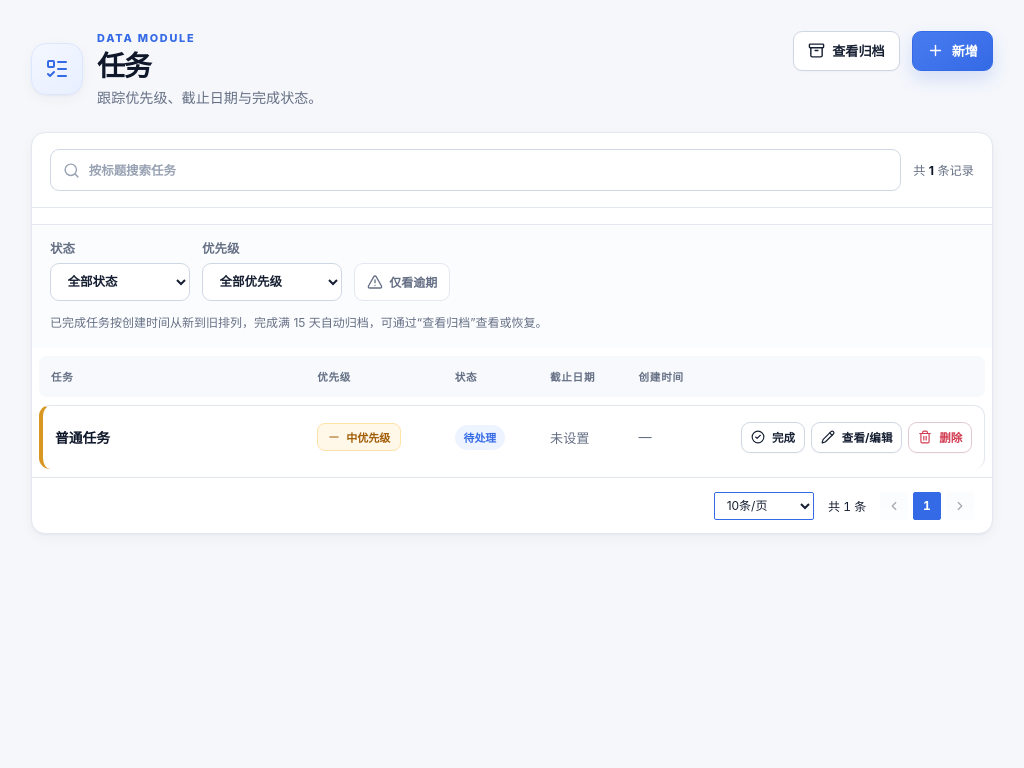
Scenario: review report CRUD regressions › keeps the archive return button available after load errors and empty results without touching browser archives
The image size is (1024, 768).
Expected: the text "普通任务" is shown, [55,430,110,446]
Click the button "查看归档".
click(846, 51)  # box [793,31,900,71]
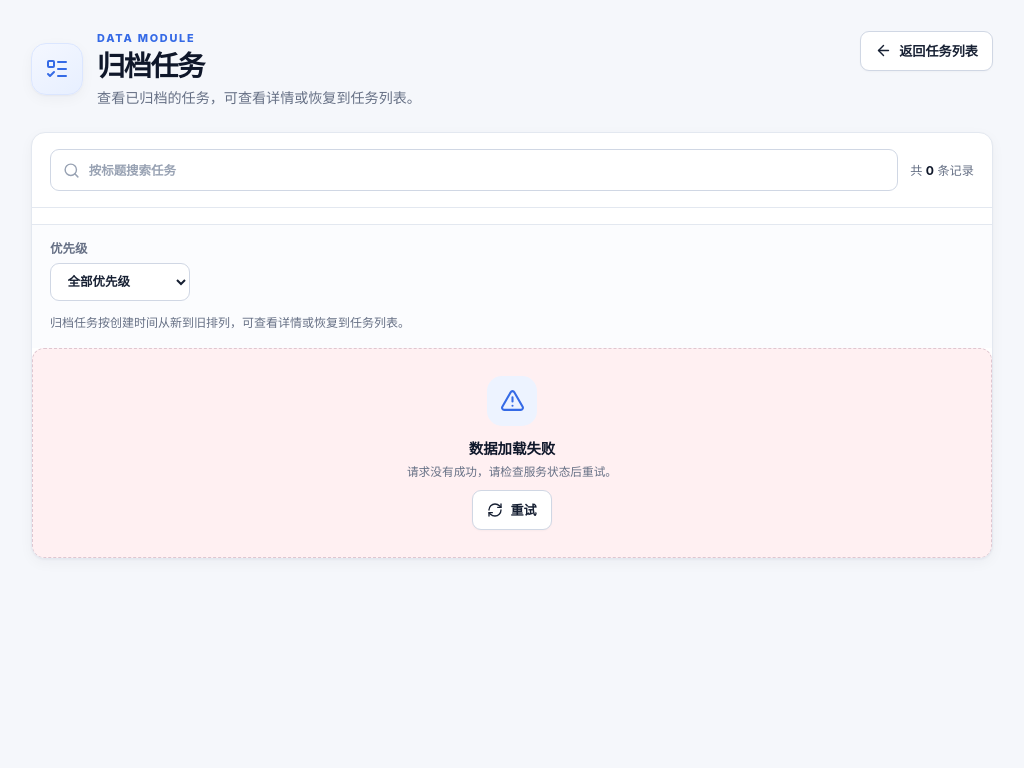
Expected: the button "返回任务列表" is enabled, [860,31,993,71]
Now the text "普通任务" is gone
Now the heading "数据加载失败" is shown, box [469,440,555,457]
Click the button "重试".
click(512, 510)  # box [472,490,552,530]
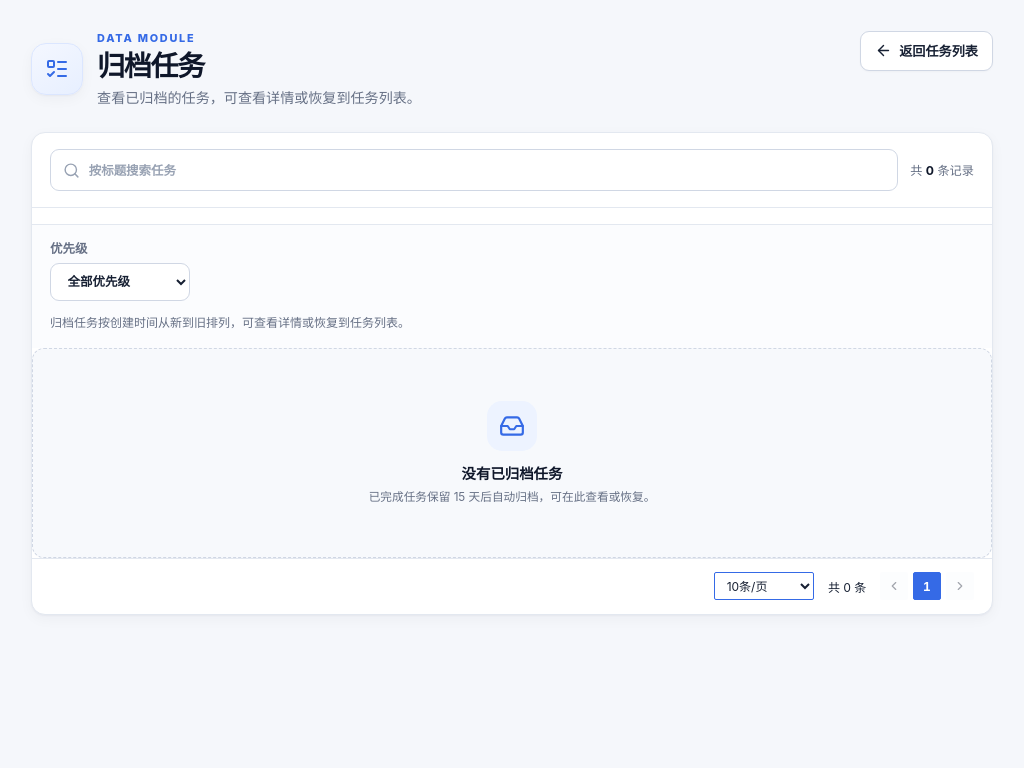
Now the heading "没有已归档任务" is shown, box [462,465,562,482]
Click the button "返回任务列表".
click(926, 51)  # box [860,31,993,71]
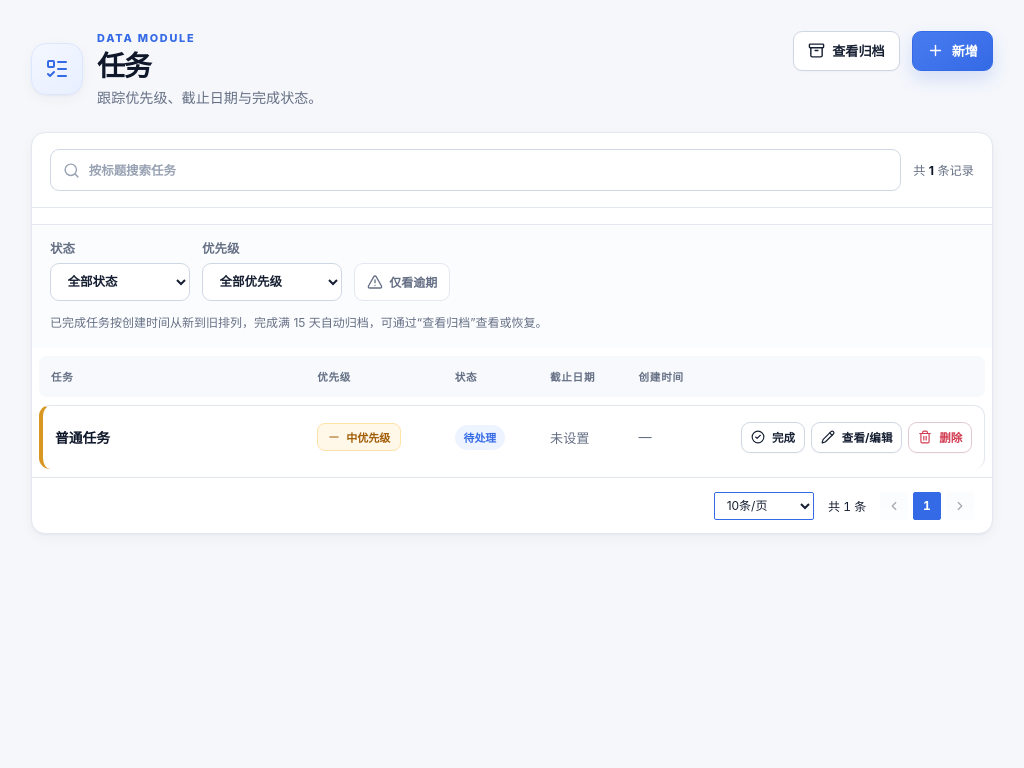
Now the text "普通任务" is shown, box [55,430,110,446]
Now the dropdown named "筛选任务状态" shows "全部状态", box [50,263,190,301]
